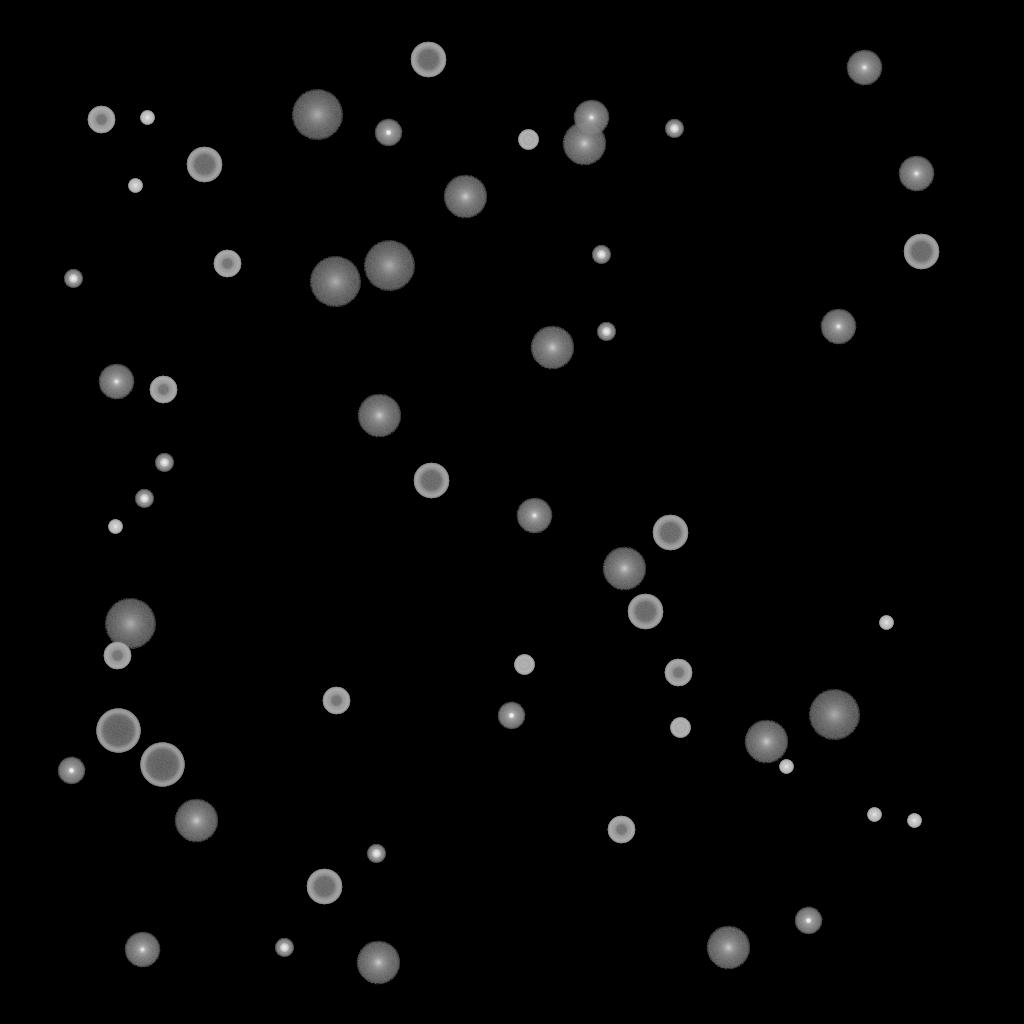depth:-10: (374, 119, 402, 147), (497, 702, 525, 730), (57, 757, 85, 785), (794, 907, 822, 935)
depth:-20: (64, 270, 82, 288), (597, 323, 615, 341), (367, 845, 385, 863), (155, 454, 173, 472), (665, 120, 683, 138), (135, 490, 153, 508), (592, 246, 610, 264), (275, 939, 293, 957)
depth:-30: (128, 179, 142, 193), (907, 814, 921, 828), (879, 616, 893, 630), (867, 808, 881, 822), (108, 520, 122, 534), (779, 760, 793, 774), (140, 111, 154, 125)
depth:-40: (514, 655, 534, 675), (670, 718, 690, 738), (518, 130, 538, 150)
depth:-50: (213, 250, 241, 278), (607, 816, 635, 844), (149, 376, 177, 404), (322, 687, 350, 715), (664, 659, 692, 687), (103, 642, 131, 670), (87, 106, 115, 134)
depth:-60: (903, 234, 939, 270), (627, 594, 663, 630), (410, 42, 446, 78), (186, 147, 222, 183), (306, 869, 342, 905), (413, 463, 449, 499), (652, 515, 688, 551)
depth:-70: (96, 709, 140, 753), (140, 743, 184, 787)
depth:0: (820, 309, 856, 345), (573, 100, 609, 136), (516, 498, 552, 534), (898, 156, 934, 192), (846, 50, 882, 86), (98, 364, 134, 400), (124, 932, 160, 968)
depth:10: (530, 326, 574, 370), (356, 941, 400, 985), (602, 547, 646, 591), (174, 799, 218, 843), (357, 394, 401, 438), (744, 720, 788, 764), (443, 175, 487, 219), (706, 926, 750, 970), (562, 122, 606, 166)
depth:20: (291, 90, 343, 140), (104, 599, 156, 649), (808, 690, 860, 740), (363, 241, 415, 291), (309, 257, 361, 307)
